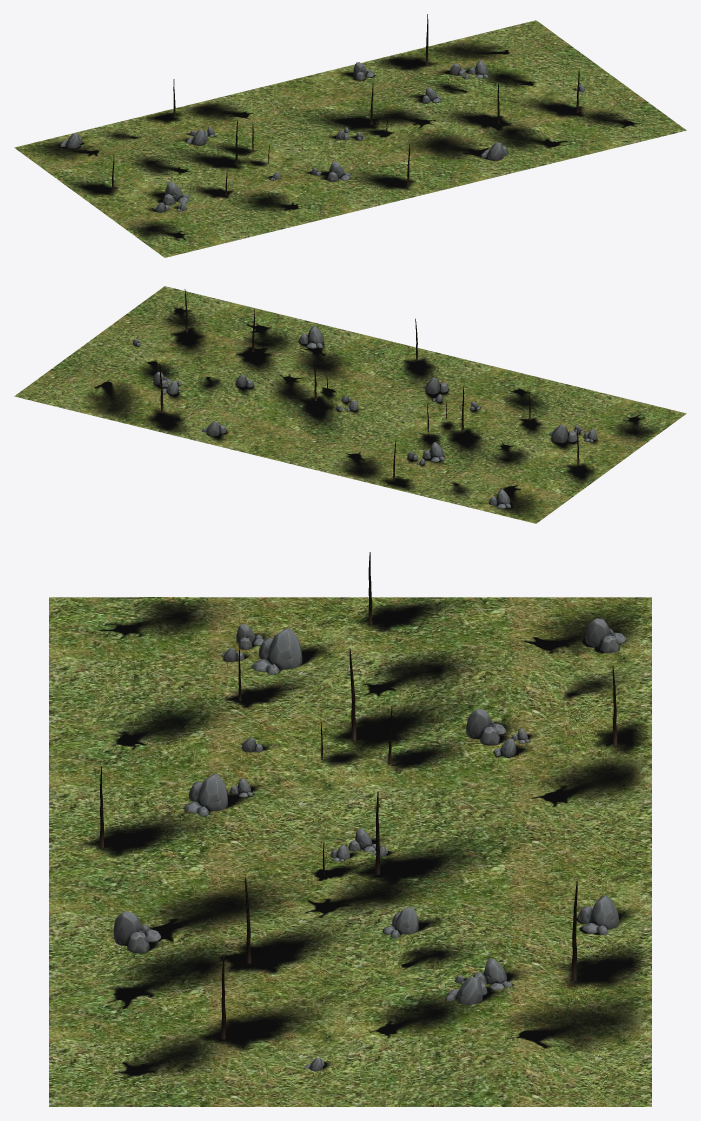
Rendered from world_3.glb.
3 views of the same model, one above another, from view 1: azimuth 30°, elevation 25°; view 2: azimuth 150°, elevation 25°; view 3: azimuth 270°, elevation 25° (orthographic). The views are drawn at different scales.
Parts seen in each view (by area): view 1: Ground, Rock9; view 2: Ground, Rock19; view 3: Ground, Rock9, Rock19, Rock4, Rock16, Rock1, Rock18.
Boxes of the visible parts, left/top/right/bottom form: Ground: left=14, top=20, right=686, bottom=257; Rock9: left=162, top=182, right=189, bottom=205; Ground: left=14, top=286, right=686, bottom=523; Rock19: left=298, top=325, right=323, bottom=348; Ground: left=49, top=597, right=651, bottom=1106; Rock9: left=251, top=627, right=302, bottom=674; Rock19: left=113, top=911, right=161, bottom=952; Rock4: left=184, top=773, right=227, bottom=815; Rock16: left=577, top=895, right=618, bottom=934; Rock1: left=466, top=708, right=506, bottom=745; Rock18: left=585, top=618, right=626, bottom=652.
Size of what is drawn, in the model's own units: 100 by 9.67 by 50.
Materials: 3 (3 with a texture image).
